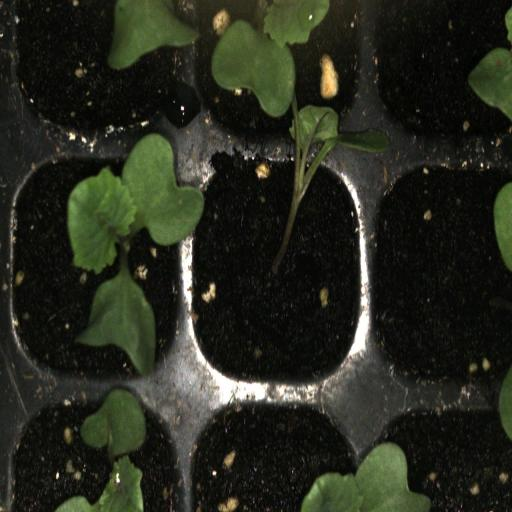askew: (185, 64, 372, 391)
seedling: (6, 144, 187, 389)
